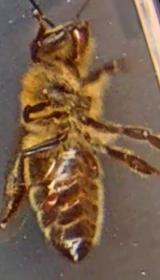varroa_mite: (30, 178, 66, 222)
